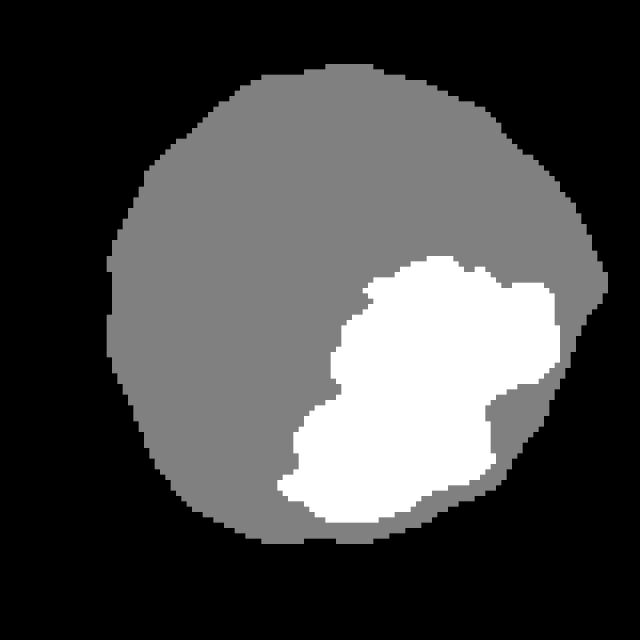WBC: (91, 48, 618, 560)
